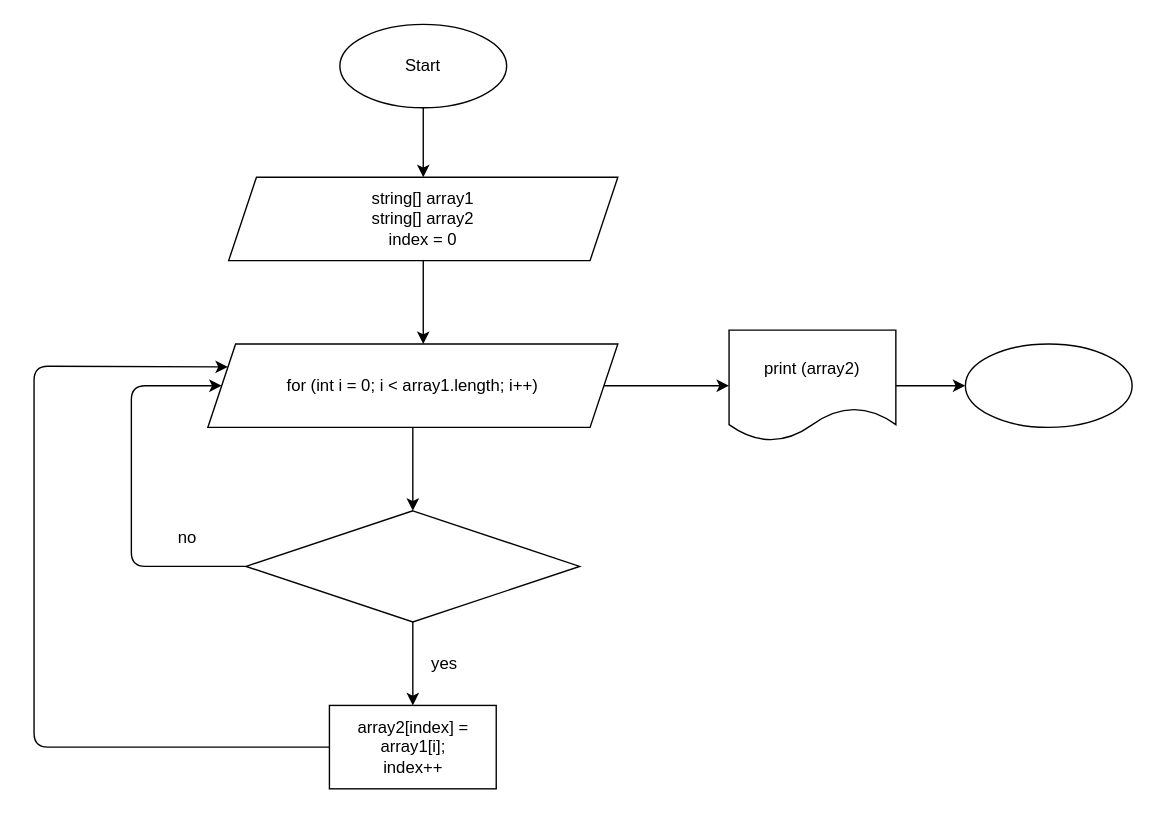
The diagram is 1156 pixels wide and 813 high, and some of its shapes have lost their labels. The centre of each missing label's shape, as x and y in pixels:
"end" goes at pixel 1048 385.
"if (array1.length <= 3)" goes at pixel 412 565.
